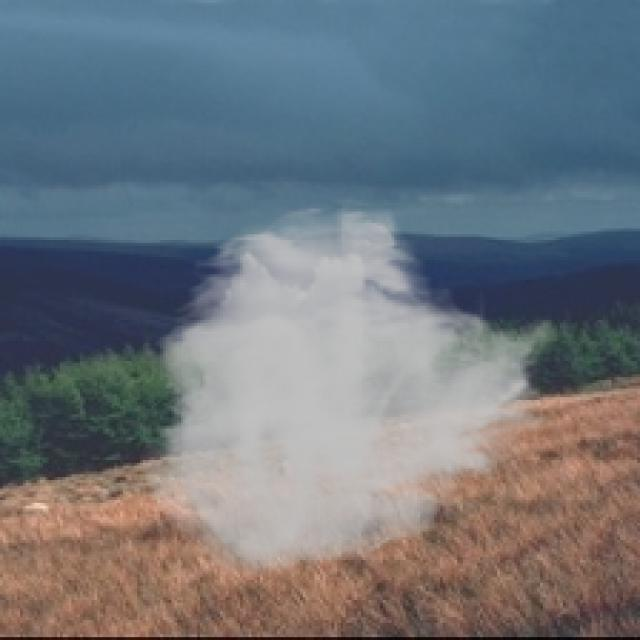smoke: (137, 203, 560, 580)
